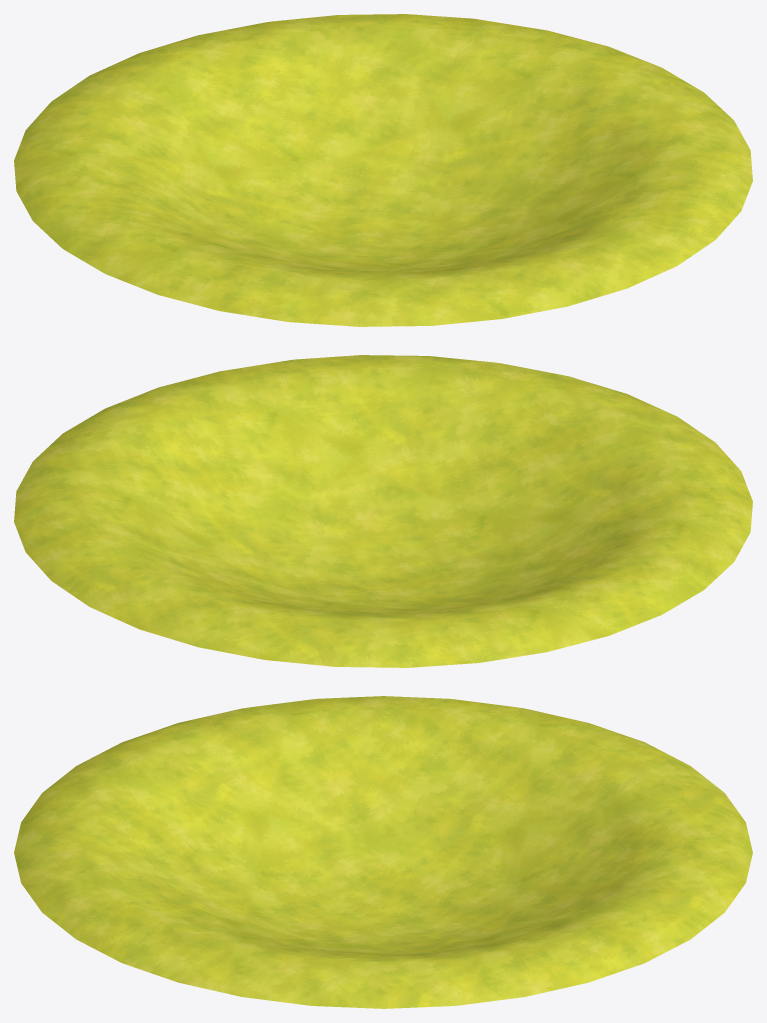
Rendered from Farm_Ground_04.fbx.
The picture shows the model from 3 angles, top to bottom: view 1: azimuth 30°, elevation 25°; view 2: azimuth 150°, elevation 25°; view 3: azimuth 270°, elevation 25°; orthographic projection.
Parts seen in each view (by area): view 1: Farm_Ground_04; view 2: Farm_Ground_04; view 3: Farm_Ground_04.
Part boxes in pixels (x1,y1,x2,y2): Farm_Ground_04: (14, 14, 752, 326); Farm_Ground_04: (14, 355, 752, 667); Farm_Ground_04: (14, 696, 752, 1008).
Size of the model in its own units: 1607 by 1607 by 174.
